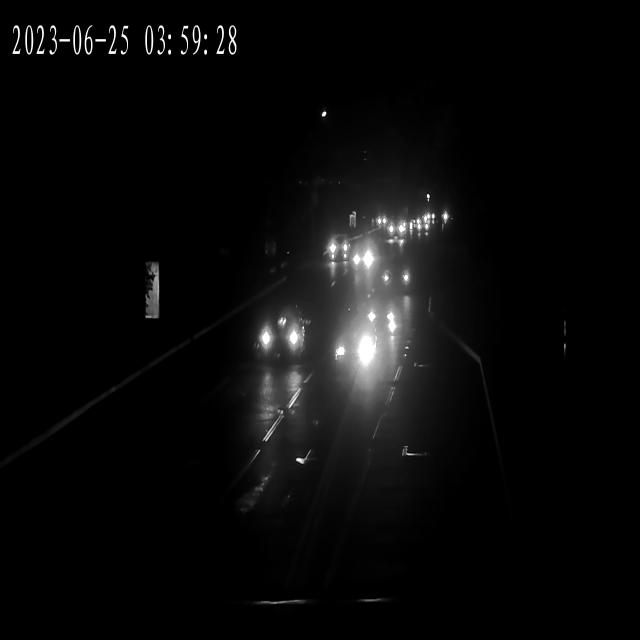Car: (254, 309, 308, 365), (361, 294, 401, 330), (378, 263, 413, 294), (348, 244, 378, 270), (326, 236, 354, 261), (382, 225, 404, 242), (383, 223, 402, 240), (368, 213, 387, 228), (372, 213, 390, 228)
